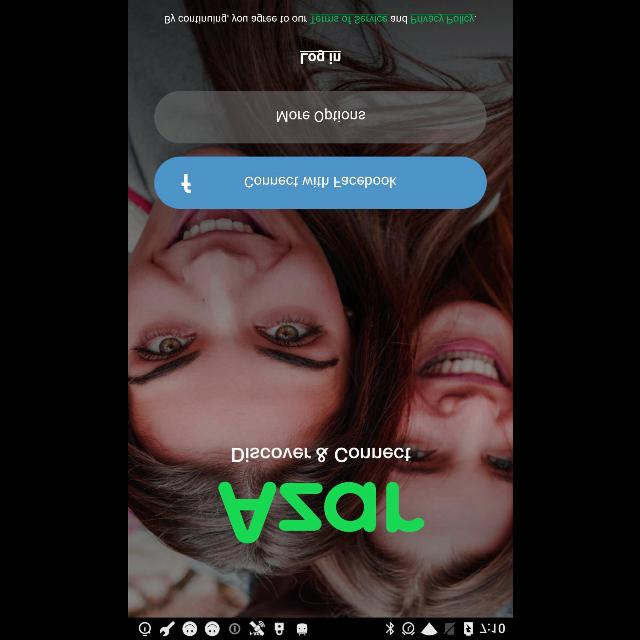backgroundimage: (128, 0, 512, 618)
image: (218, 481, 424, 543)
text: (164, 13, 476, 24), (232, 446, 410, 462), (300, 50, 340, 64)
textbutton: (154, 90, 486, 144), (154, 156, 486, 208)
uppertaskbar: (128, 617, 512, 639)
